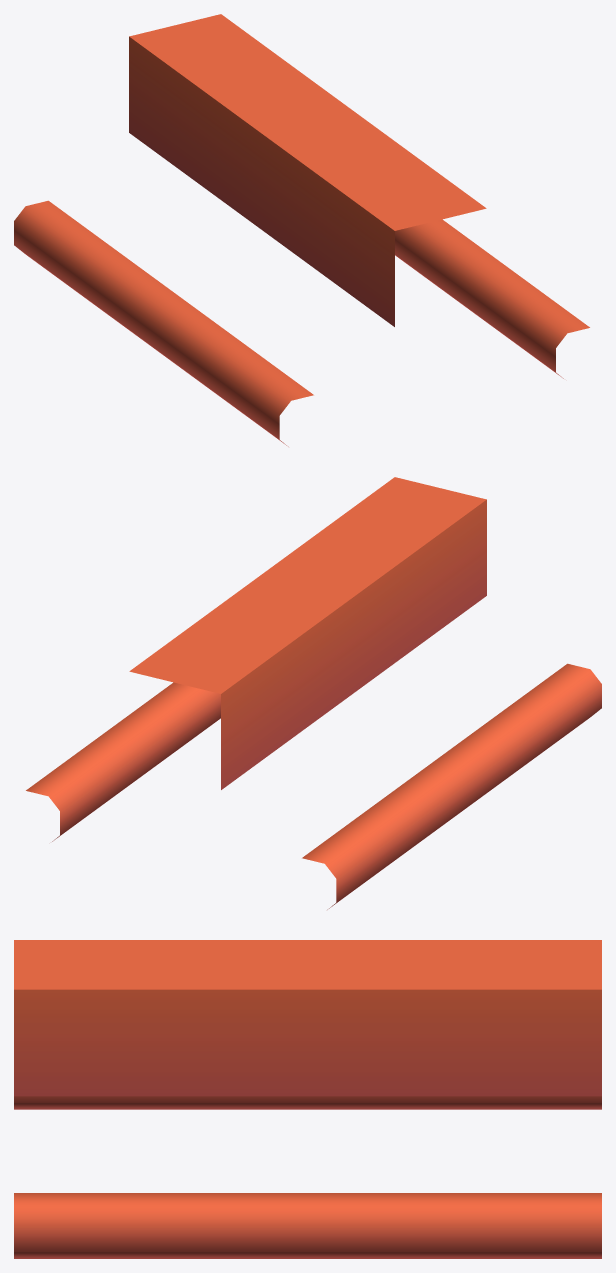
Rendered from kenney-coaster-coaster-hanging-track.glb.
3 renders of one model, top to bottom at view 1: azimuth 30°, elevation 25°; view 2: azimuth 150°, elevation 25°; view 3: azimuth 270°, elevation 25°, orthographic. The views are drawn at different scales.
Parts seen in each view (by area): view 1: coaster-hanging-track; view 2: coaster-hanging-track; view 3: coaster-hanging-track.
Part boxes in pixels (bbox=[...]): coaster-hanging-track: bbox=[14, 14, 589, 446]; coaster-hanging-track: bbox=[26, 477, 601, 909]; coaster-hanging-track: bbox=[14, 940, 601, 1258].
Bounding box in the file's own units: 0.7 × 0.3999 × 1.
1 material, 1 textured.
